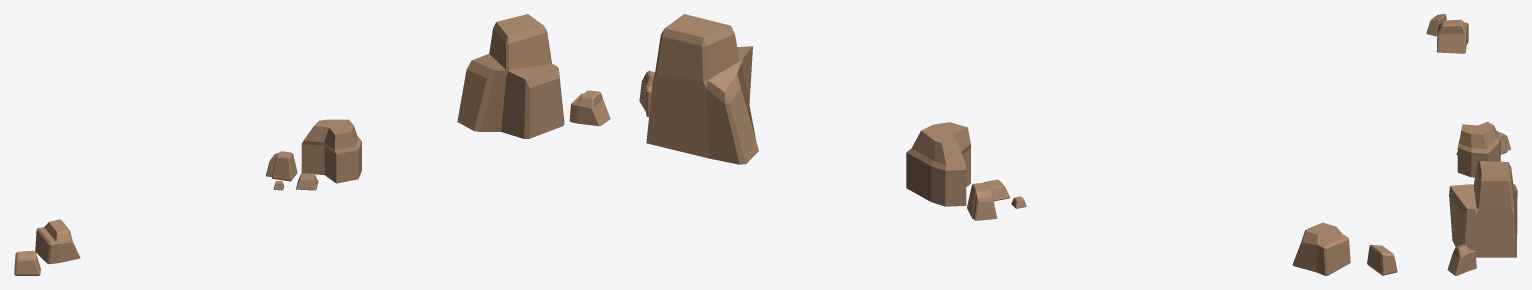
File: small_rock_5.fbx
The picture shows the model from 3 angles, left to right: view 1: azimuth 30°, elevation 25°; view 2: azimuth 150°, elevation 25°; view 3: azimuth 270°, elevation 25°; orthographic projection. The views are drawn at different scales.
Visible parts, largest first — view 1: 4; view 2: 4; view 3: 4.
Boxes of the visible parts, x1,y1,x2,y2 form: 4: (14,14,610,275); 4: (639,14,1397,275); 4: (1426,14,1517,275).
Bounding box in the file's own units: 0.9073 × 0.1361 × 0.1395.
